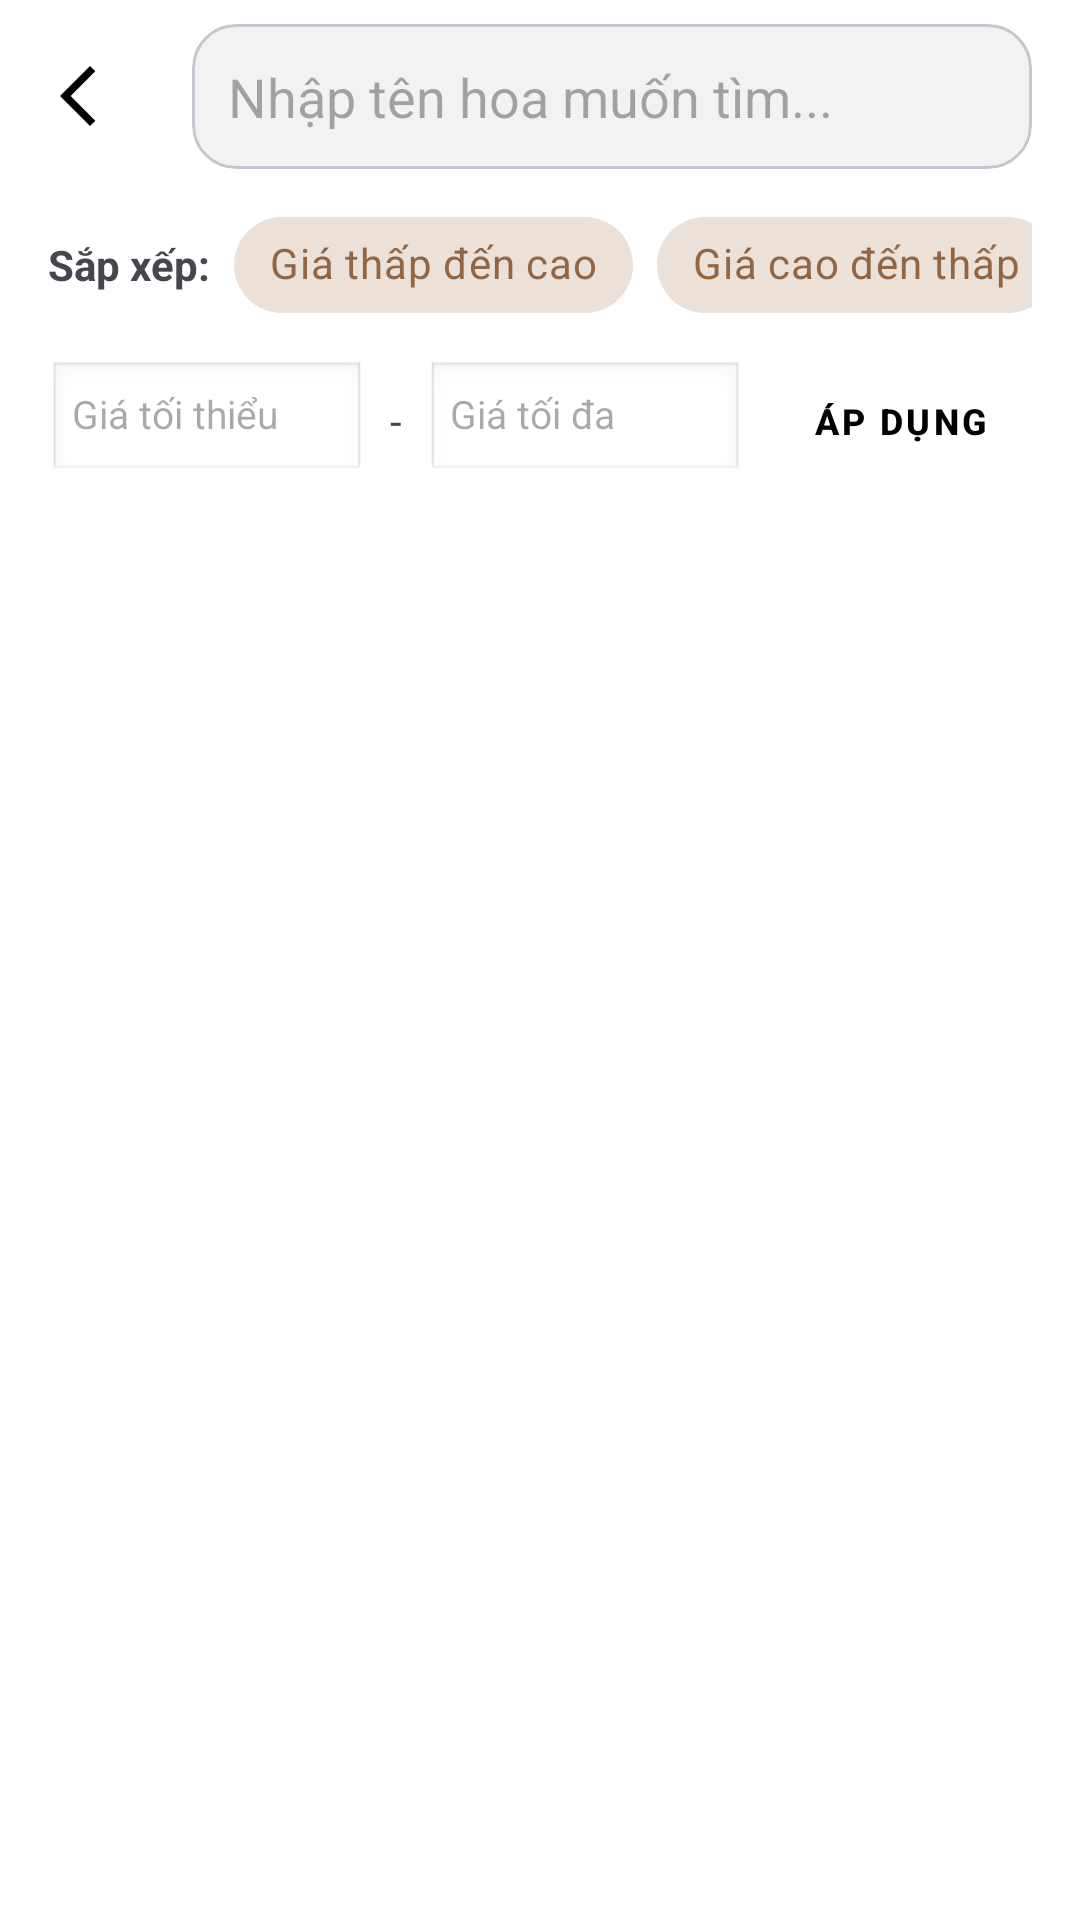

Named icons in this screenshot (1080*1920) and their centers, [x,y]:
back: [77,96]
